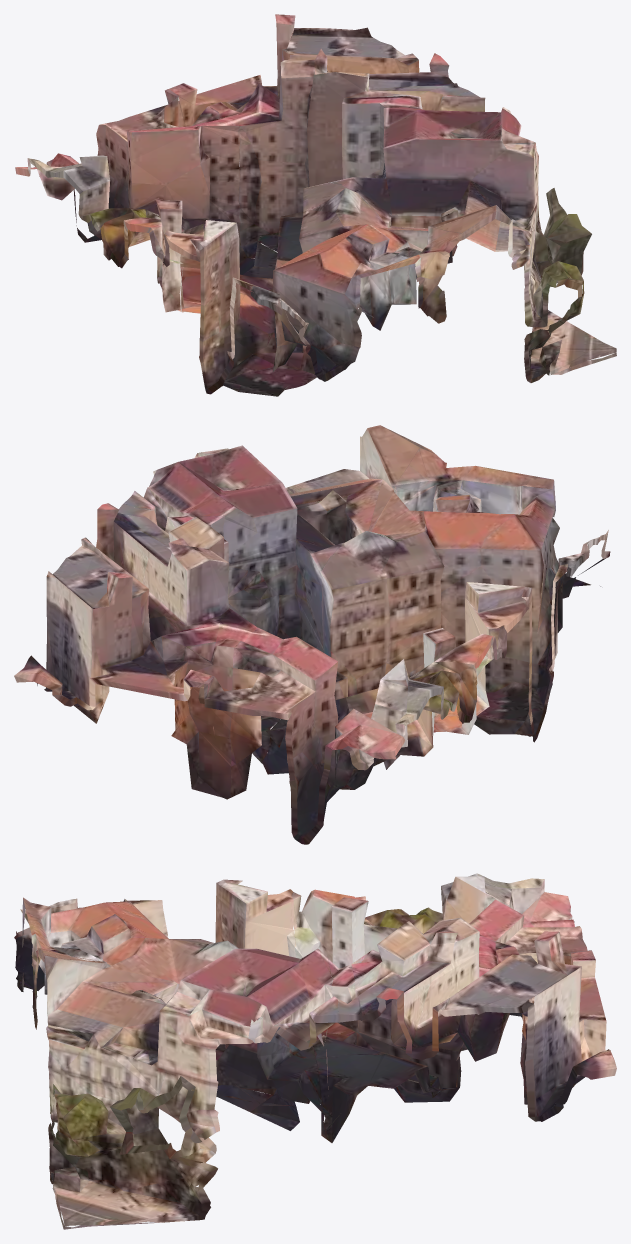
3 renders of one model, top to bottom at view 1: azimuth 30°, elevation 25°; view 2: azimuth 150°, elevation 25°; view 3: azimuth 270°, elevation 25°, orthographic. The views are drawn at different scales.
Parts seen in each view (by area): view 1: Mesh_0; view 2: Mesh_0; view 3: Mesh_0.
Boxes of the visible parts, x1,y1,x2,y2 form: Mesh_0: (15,14,616,396); Mesh_0: (14,425,610,844); Mesh_0: (14,873,616,1229).
Bounding box in the file's own units: 66.84 × 37.94 × 82.8.
Materials: 1 (1 with a texture image).
